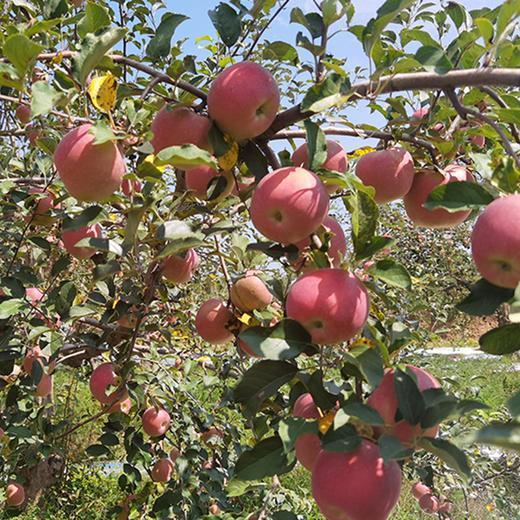apple: (308, 436, 405, 520), (249, 165, 328, 245), (52, 122, 128, 204), (205, 60, 279, 142), (287, 271, 367, 345), (468, 193, 520, 288), (400, 165, 478, 225), (354, 145, 414, 204), (148, 101, 211, 155), (89, 362, 132, 404), (161, 248, 202, 280), (140, 406, 171, 436)
